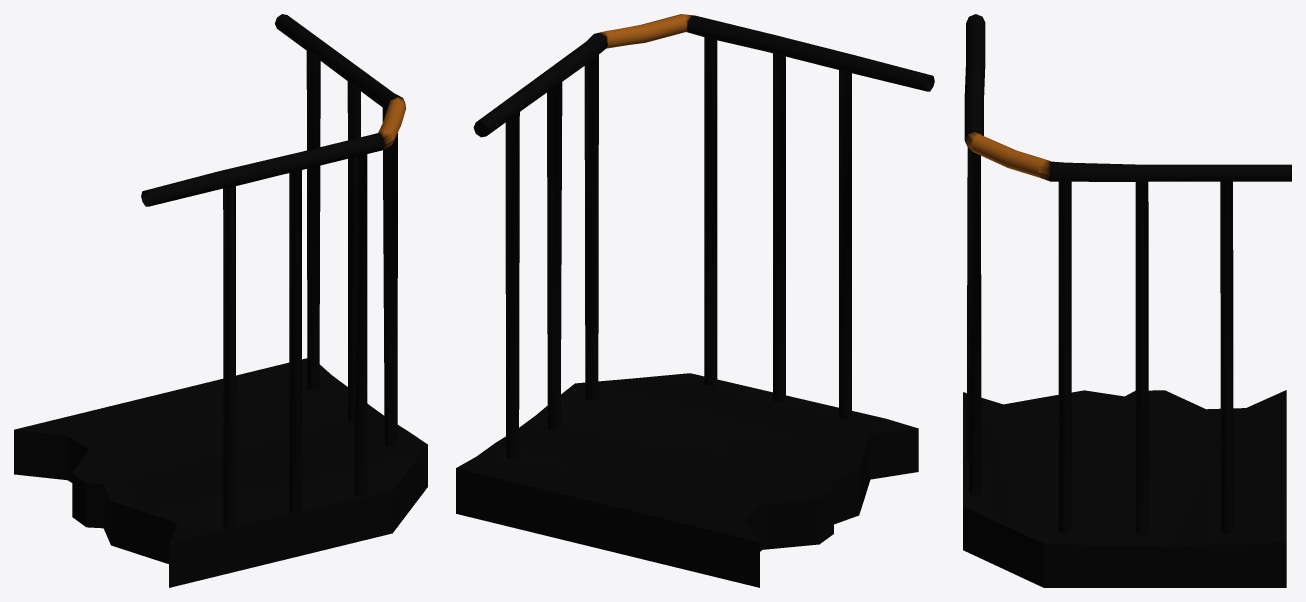
The model's file is balconDerecho.FBX.
The picture shows the model from 3 angles, left to right: view 1: azimuth 30°, elevation 25°; view 2: azimuth 150°, elevation 25°; view 3: azimuth 270°, elevation 25°; orthographic projection. The views are drawn at different scales.
Parts seen in each view (by area): view 1: Terraza1; view 2: Terraza1; view 3: Terraza1.
Boxes of the visible parts, <box> form: Terraza1: <box>14,14,427,587</box>; Terraza1: <box>456,14,934,587</box>; Terraza1: <box>963,14,1291,587</box>.
Size of the model in its own units: 117 by 142 by 102.
